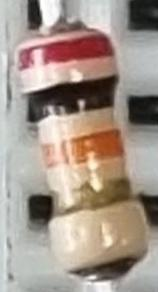Black: (25, 71, 118, 124)
Orange: (41, 128, 126, 170), (18, 35, 116, 71)
Side-Gold: (49, 174, 143, 228)
